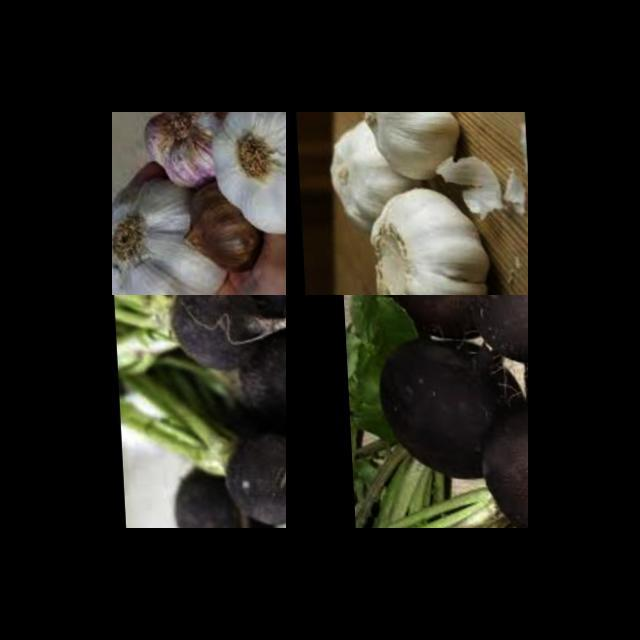garlic: (361, 183, 497, 295), (112, 158, 222, 295), (317, 112, 435, 237), (204, 112, 286, 239), (172, 174, 262, 278), (135, 112, 233, 202), (350, 112, 462, 179)
